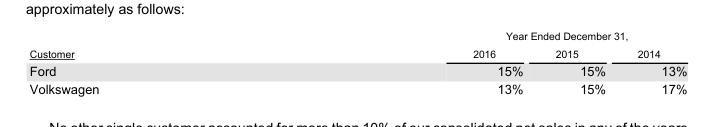table: (28, 29, 686, 95)
table column: (28, 29, 285, 95), (285, 29, 538, 95), (538, 29, 620, 95), (620, 29, 686, 95)
table column header: (28, 29, 686, 61)
table row: (28, 61, 686, 79), (28, 44, 686, 61), (28, 79, 686, 95), (28, 29, 686, 44)
table spanning cell: (28, 29, 285, 61), (285, 29, 686, 44)
